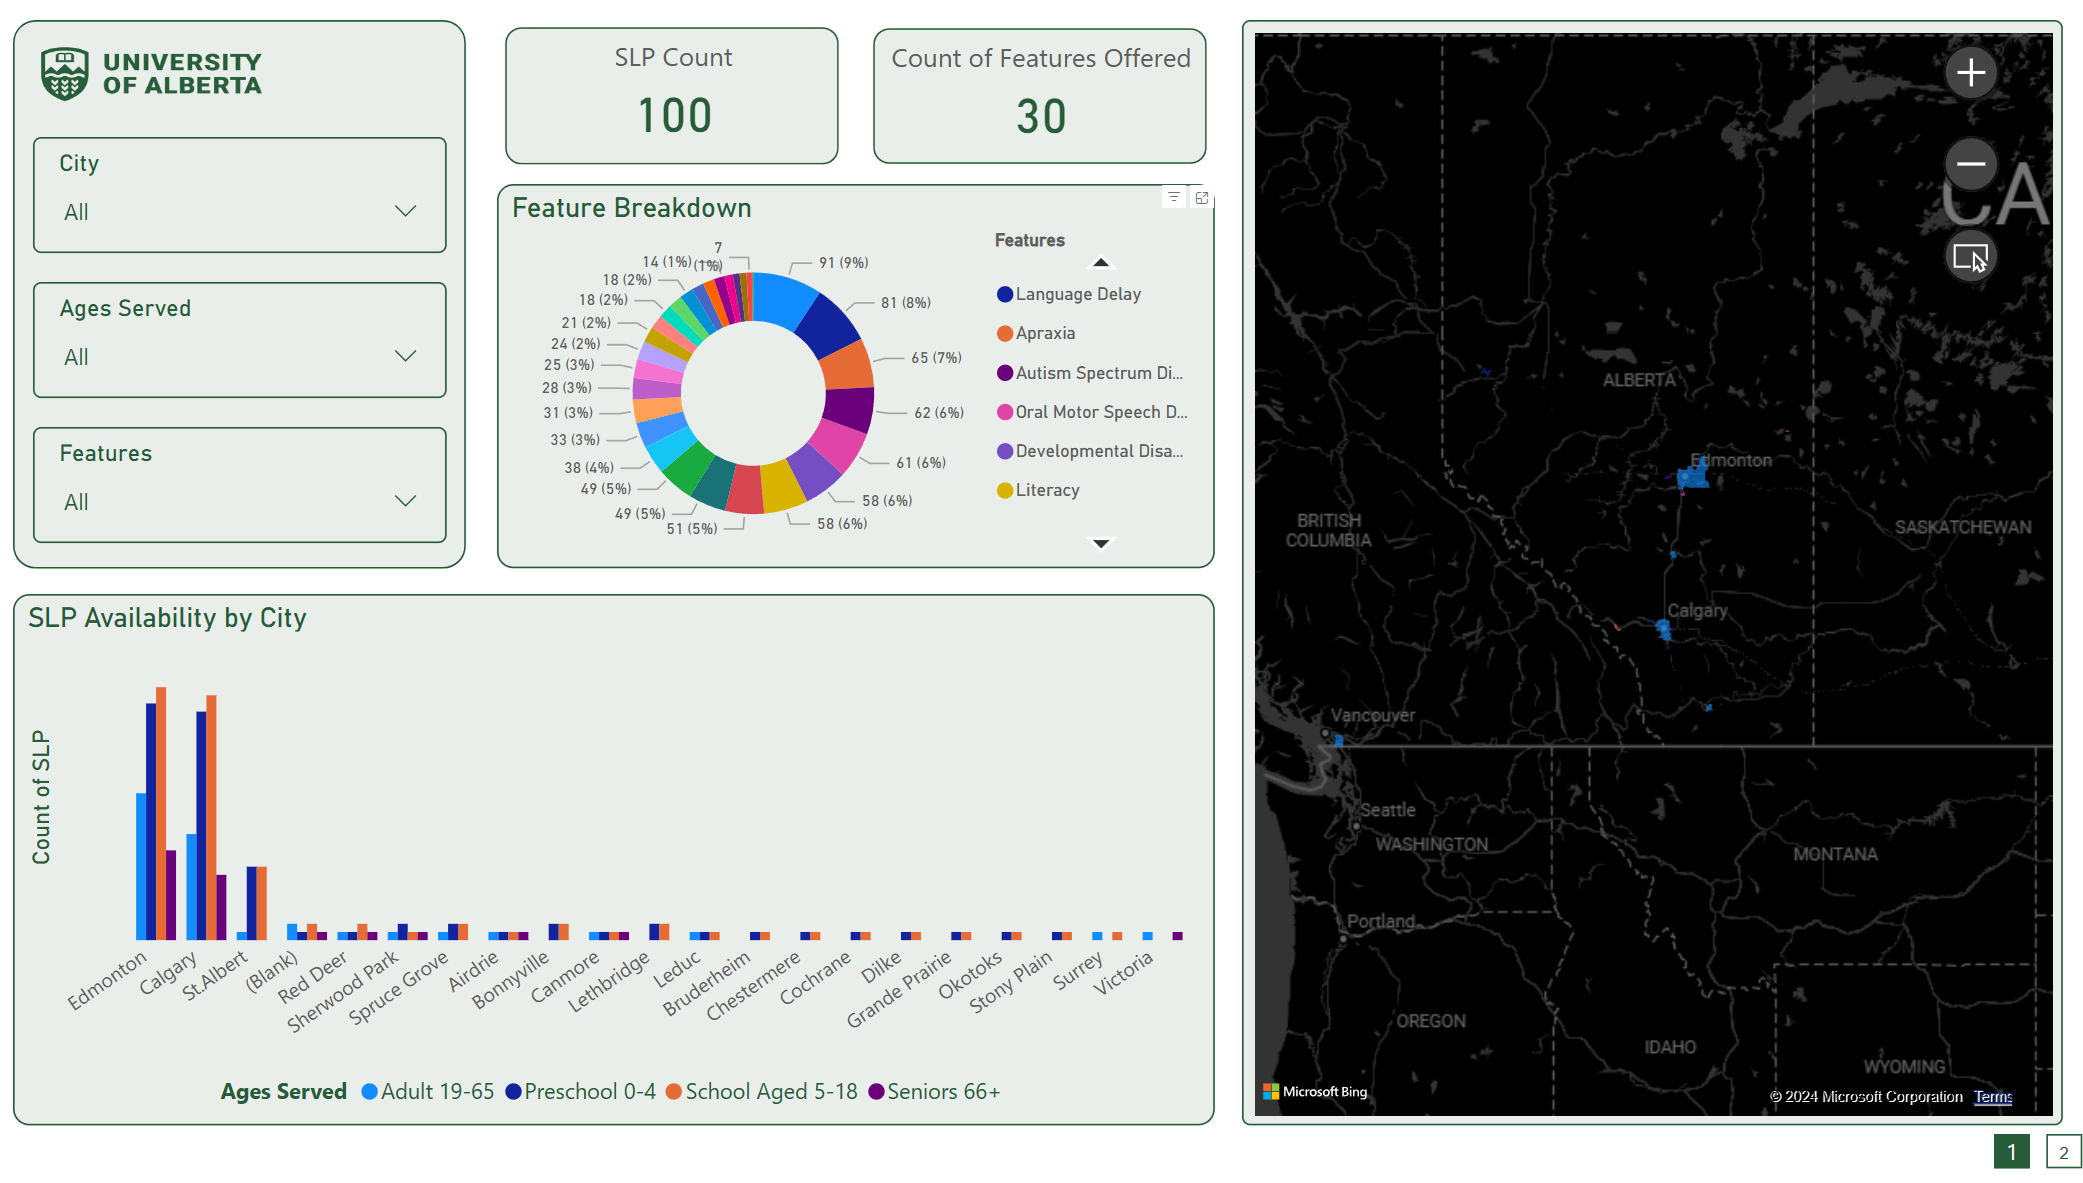

This screenshot's page, from the dashboard's own definition file:
{"tool":"powerbi","page":{"name":"1","canvas":[1280,720],"ordinal":0},"visuals":[{"type":"shape","box":[12.2,16.6,277,335.5],"z":0},{"type":"image","box":[24.5,28,145,42.8],"z":1000},{"type":"slicer","fields":{"Values":["SLP Data.City"]},"box":[24.5,88.2,253.4,70.8],"z":2000},{"type":"slicer","fields":{"Values":["SLP Data.Ages Served"]},"box":[24.5,176.9,253.4,70.8],"z":3000},{"type":"slicer","fields":{"Values":["SLP Data.Features"]},"box":[24.5,265.6,253.4,70.8],"z":4000},{"type":"filledMap","fields":{"Category":["SLP Data.City"],"Series":["SLP Data.Features"]},"box":[763.6,16.6,502.4,676.3],"z":5000},{"type":"clusteredColumnChart","title":"SLP Availability by City","fields":{"Category":["Age Served Table.City"],"Series":["Age Served Table.Ages Served"],"Y":["CountNonNull(Age Served Table.Ages Served)"]},"box":[12.2,367.8,734.8,325],"z":6000},{"type":"cardVisual","fields":{"Data":["SLP Data.Count of Features Offered"]},"box":[533,16.5,214.8,93.3],"z":7000},{"type":"cardVisual","fields":{"Data":["SLP Data.SLP Count"]},"box":[308.4,15.7,214.9,94.4],"z":8000},{"type":"donutChart","title":"Feature Breakdown","fields":{"Category":["Features Table.Features"],"Y":["CountNonNull(Features Table.Features)"]},"box":[308.4,117.1,438.6,235],"z":9000},{"type":"pageNavigator","box":[1225.4,699,54.5,21],"z":9001}]}

Visuals, with their boxes in screenshot pixels (x1, y1, x2, y2), scaled from the page's 1280x720 canvas onto the 2083x1183 screenshot:
shape: crop(20, 27, 471, 579)
image: crop(40, 46, 276, 116)
slicer - SLP Data.City: crop(40, 145, 452, 261)
slicer - SLP Data.Ages Served: crop(40, 291, 452, 407)
slicer - SLP Data.Features: crop(40, 436, 452, 553)
filledMap - SLP Data.City x SLP Data.Features: crop(1243, 27, 2060, 1138)
"SLP Availability by City" clusteredColumnChart: crop(20, 604, 1216, 1138)
cardVisual - SLP Data.Count of Features Offered: crop(867, 27, 1217, 180)
cardVisual - SLP Data.SLP Count: crop(502, 26, 852, 181)
"Feature Breakdown" donutChart: crop(502, 192, 1216, 579)
pageNavigator: crop(1994, 1148, 2082, 1182)
